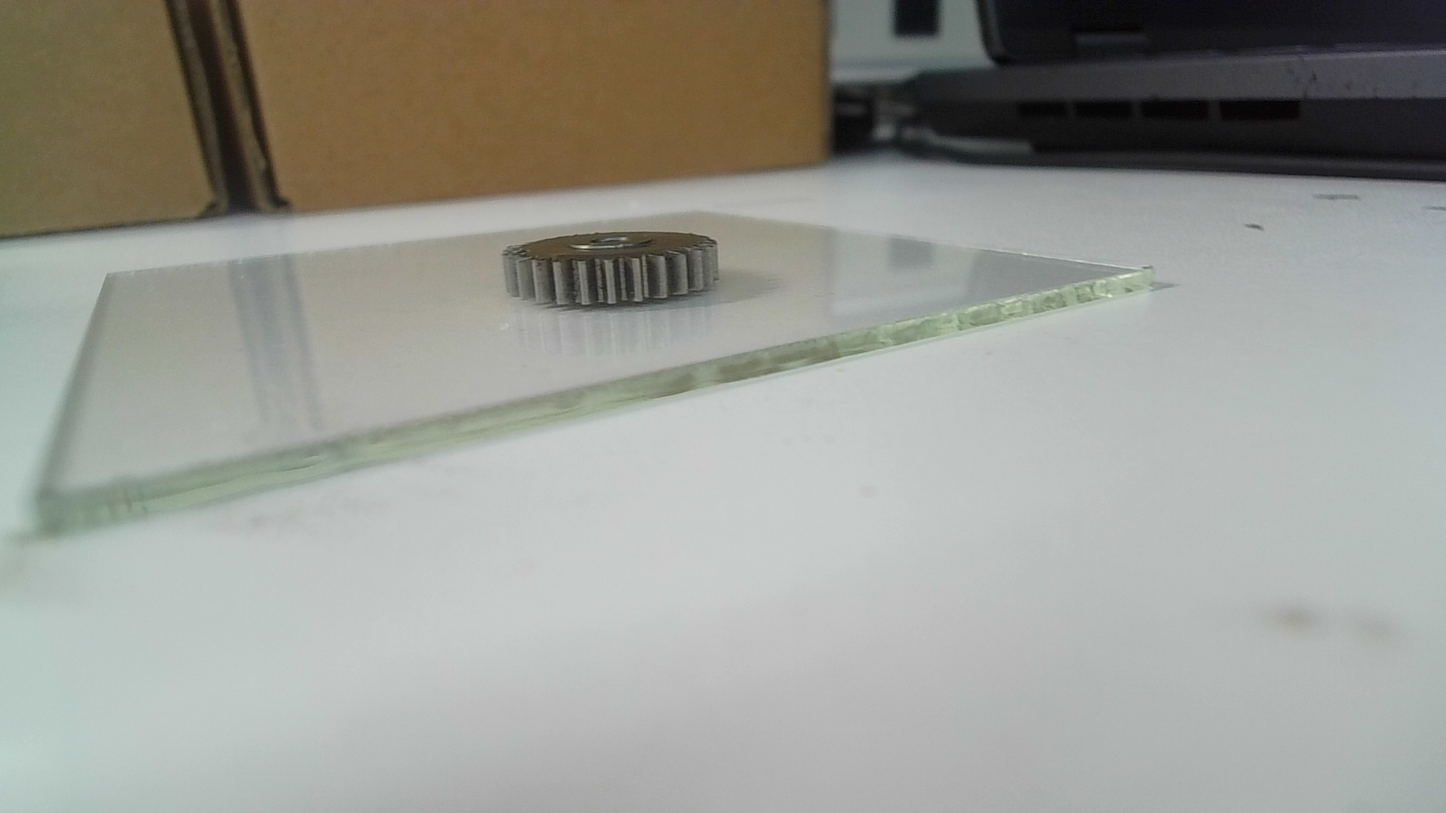gear: (500, 228, 724, 311)
